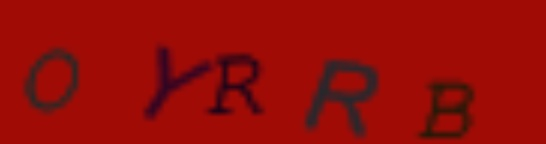B: (417, 76, 478, 143)
O: (20, 44, 81, 114)
R: (300, 55, 380, 140), (206, 48, 271, 118)
Y: (134, 41, 215, 123)
